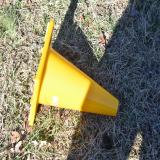cone: (28, 18, 120, 126)
